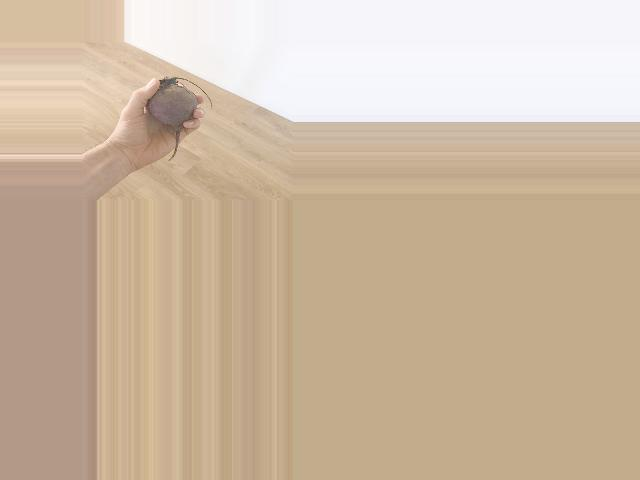beet: (146, 76, 213, 160)
